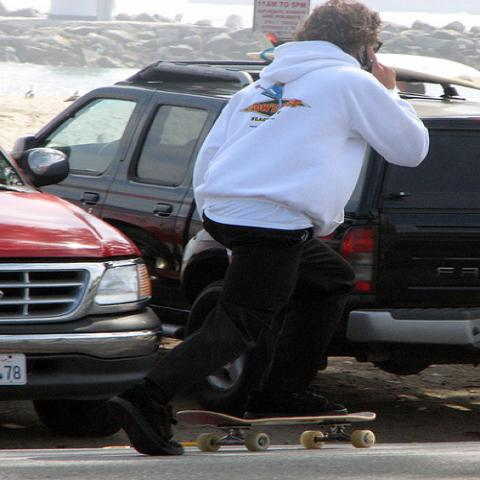car: (16, 51, 479, 375), (4, 151, 156, 436)
